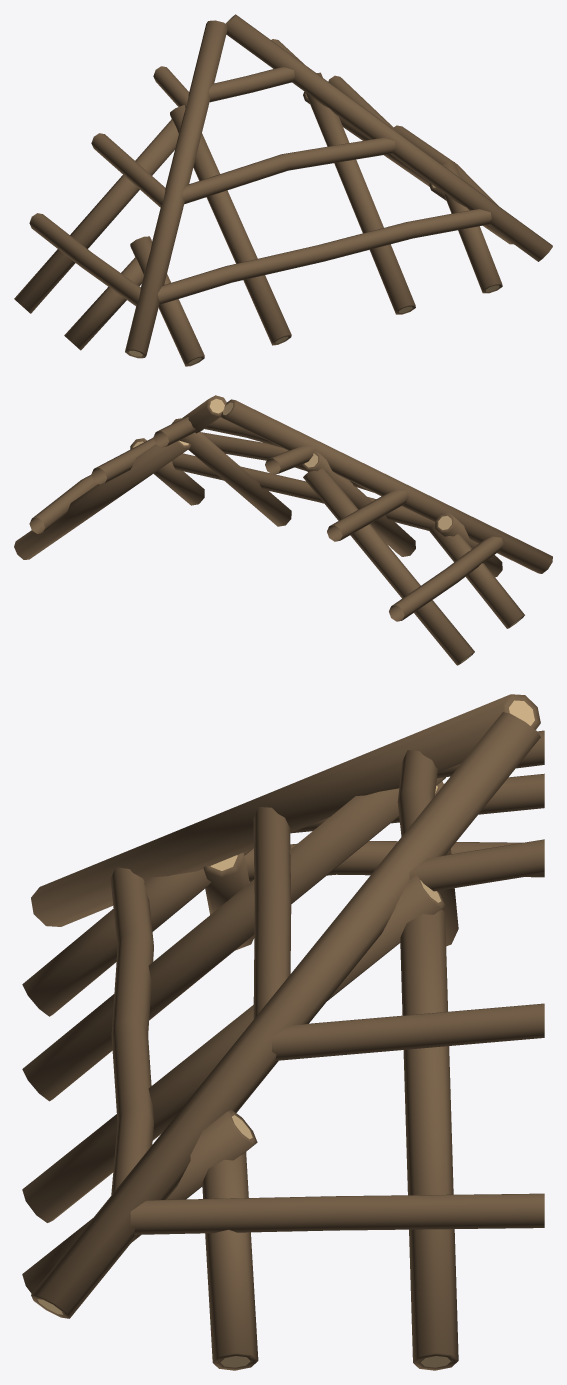
File: rpgpp_ag_roof_support_01_6x3x3_end_02.fbx
3 renders of one model, top to bottom at view 1: azimuth 30°, elevation 25°; view 2: azimuth 150°, elevation 25°; view 3: azimuth 270°, elevation 25°, orthographic. The views are drawn at different scales.
Visible parts, largest first — view 1: rpgpp_ag_roof_support_01_6x3x3_end_02; view 2: rpgpp_ag_roof_support_01_6x3x3_end_02; view 3: rpgpp_ag_roof_support_01_6x3x3_end_02.
Part boxes in pixels (<box>): rpgpp_ag_roof_support_01_6x3x3_end_02: <box>14,14,552,366</box>; rpgpp_ag_roof_support_01_6x3x3_end_02: <box>14,395,552,665</box>; rpgpp_ag_roof_support_01_6x3x3_end_02: <box>22,694,544,1370</box>.
Bounding box in the file's own units: 7.38 × 3.52 × 3.65.
